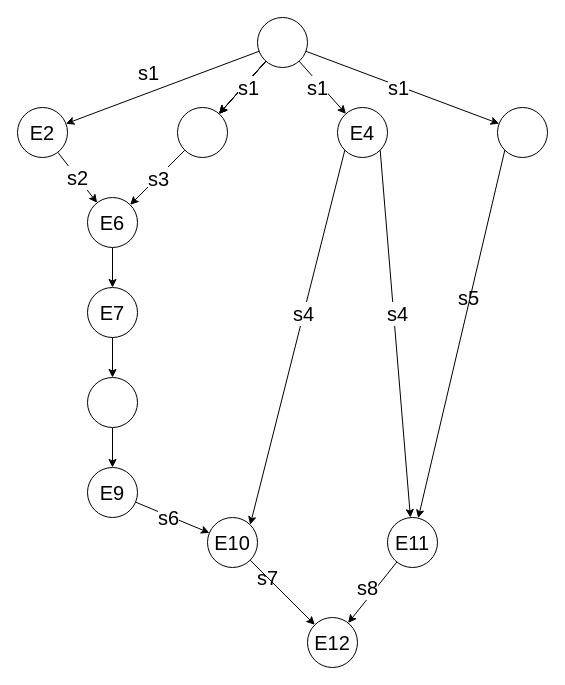
This 565x685 diagram has some shape labels left out. The centre of each missing label's shape, as x and y in pixels:
E1: (282,42)
E3: (202,132)
E5: (522,132)
E8: (112,402)
